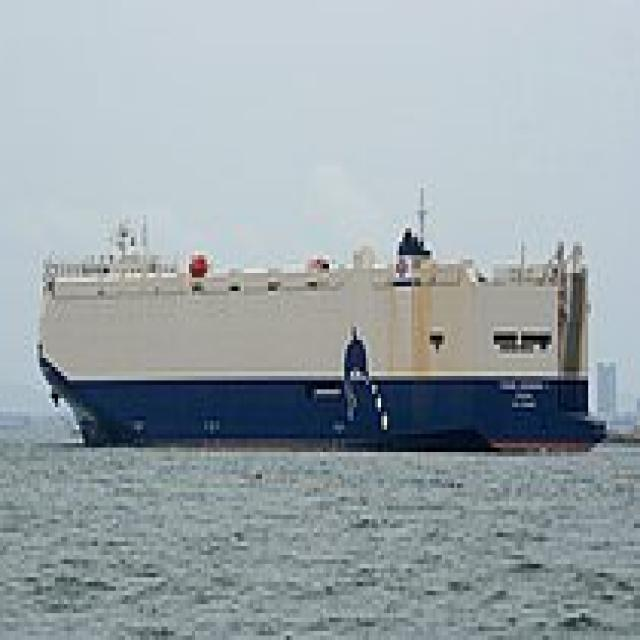Carrier: (33, 175, 610, 452)
